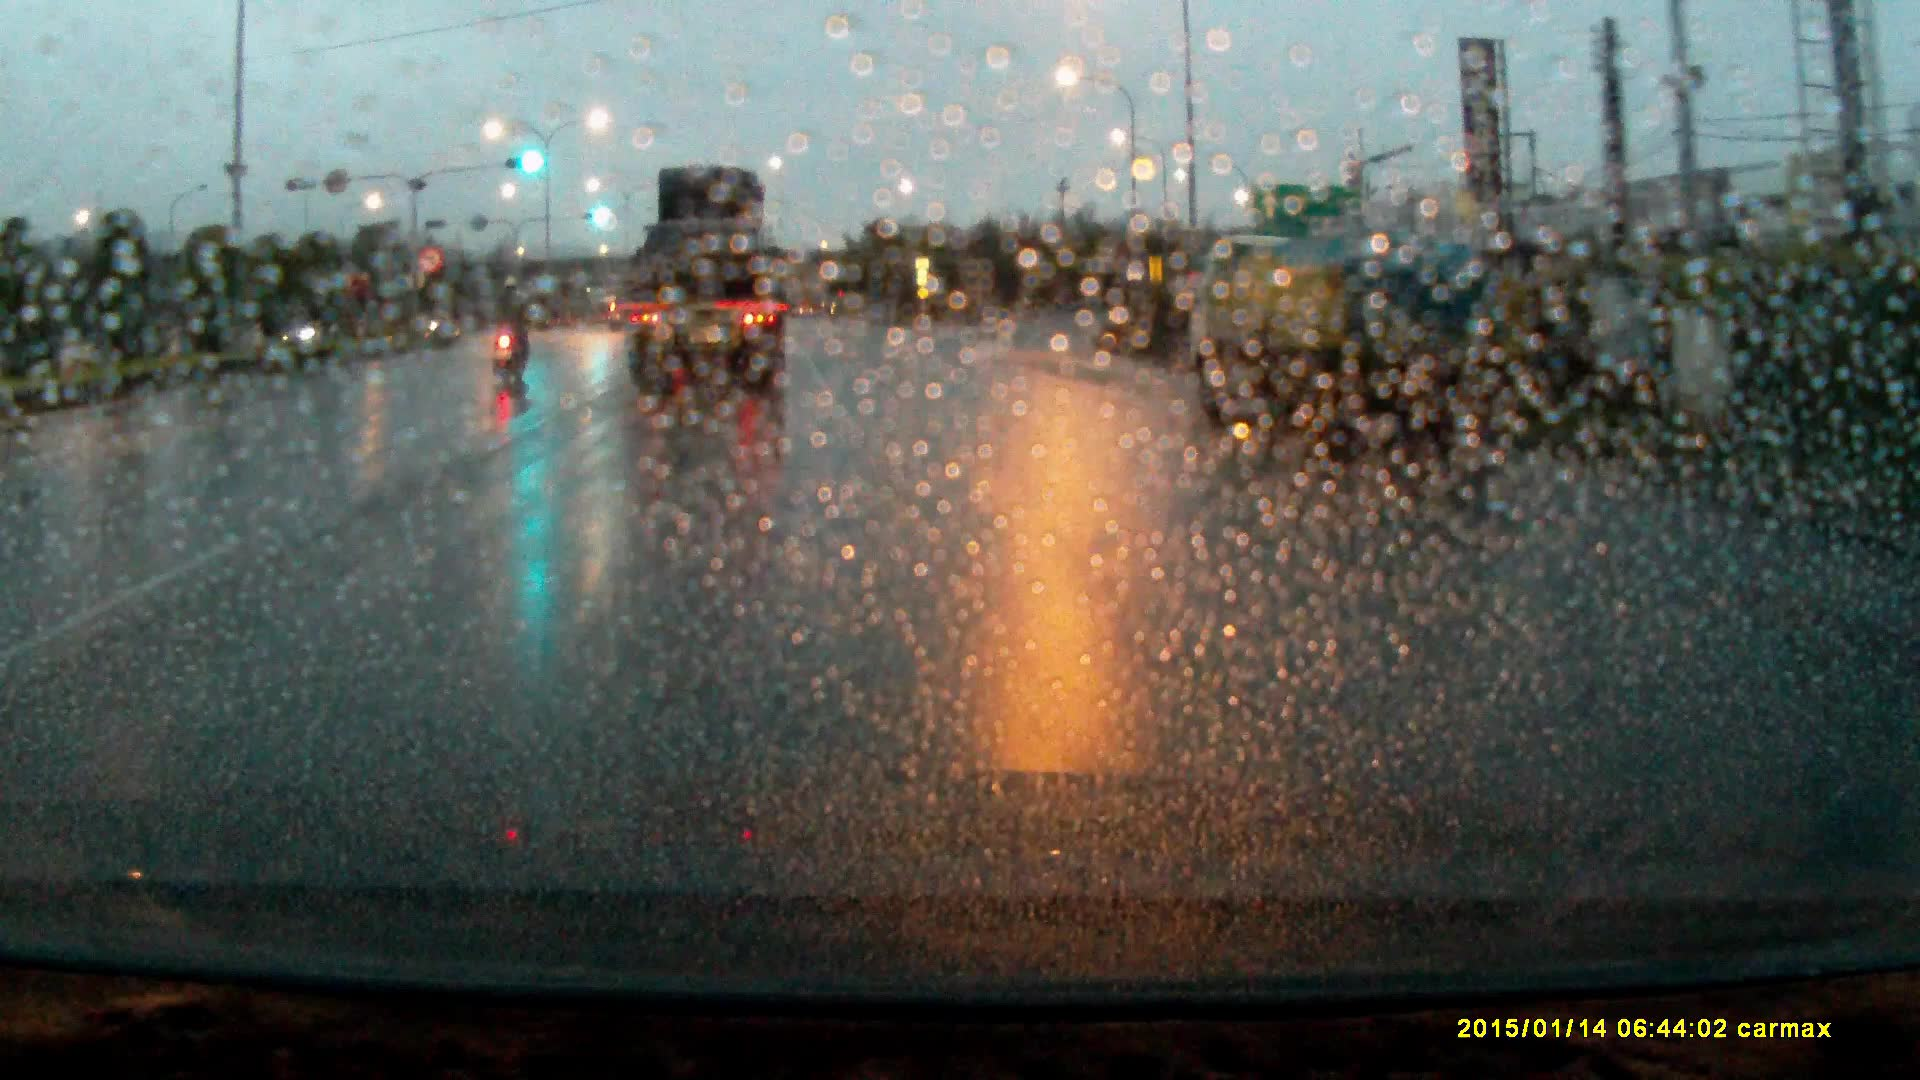rider: (488, 272, 542, 385)
vehicle: (1190, 233, 1513, 452), (623, 169, 789, 399)
